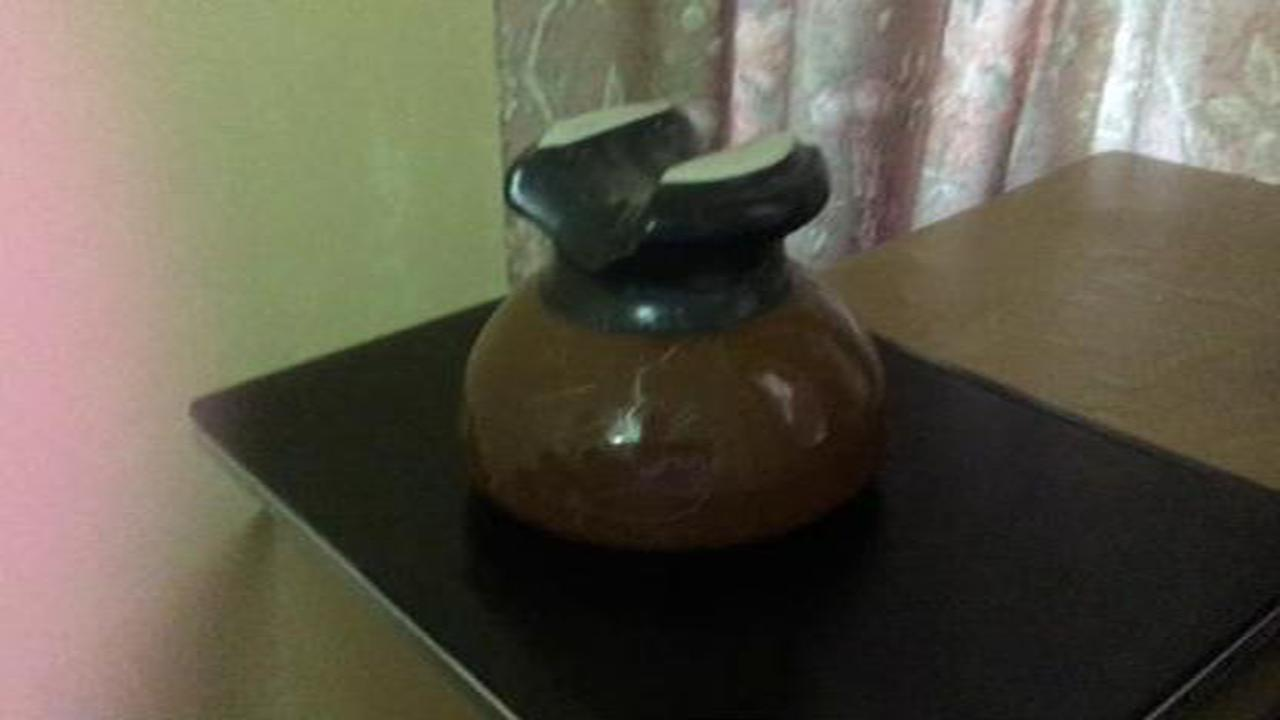insulator_pin: (430, 89, 914, 561)
